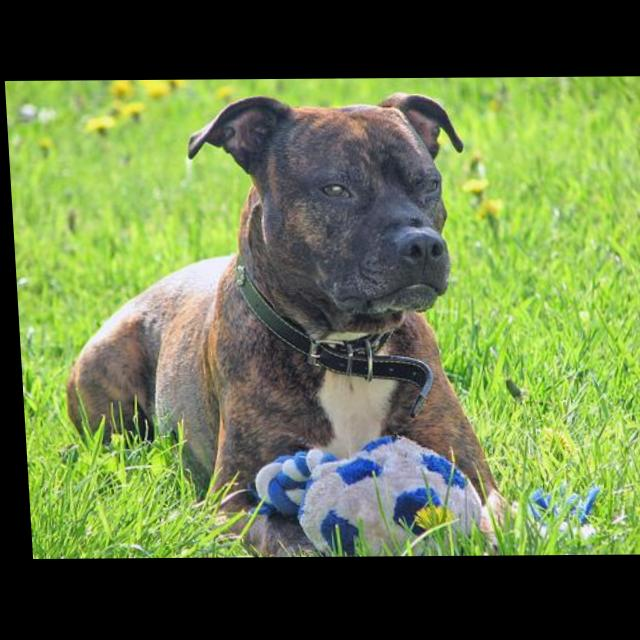amstaff: (46, 91, 510, 560)
